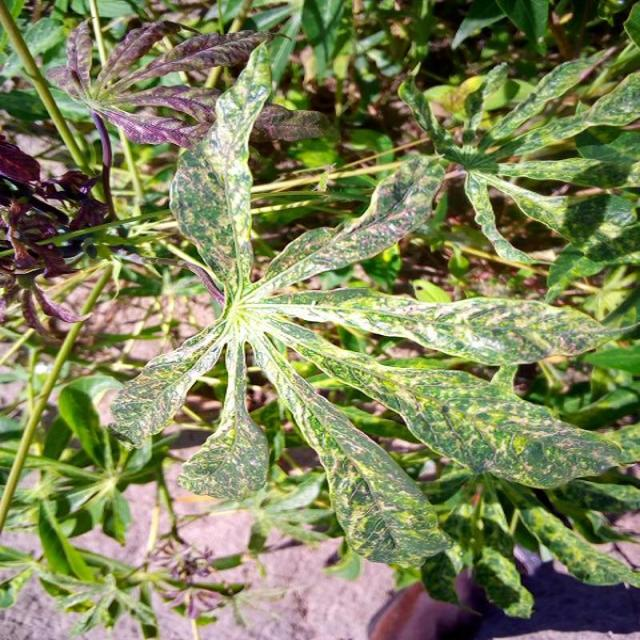cassava leaf: (101, 34, 634, 593)
